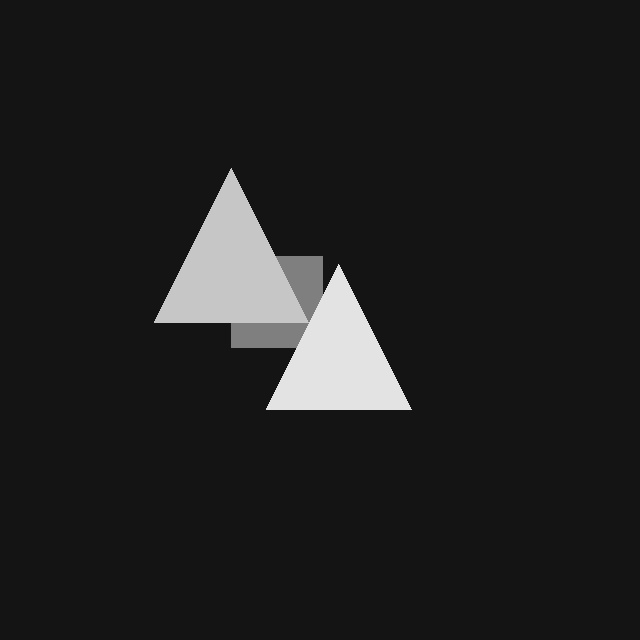square: (231, 256, 322, 347)
triangle: (154, 168, 308, 322), (266, 264, 411, 409)
